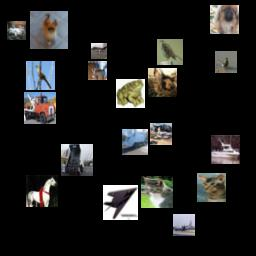airplane: (103, 185, 138, 220), (173, 214, 195, 236), (91, 43, 107, 59)
automobile: (7, 21, 26, 40)
bird: (26, 61, 55, 90), (157, 39, 183, 65), (215, 51, 237, 73)
cat: (141, 176, 173, 208), (148, 68, 177, 97), (197, 173, 226, 202), (150, 123, 172, 145), (88, 61, 107, 80)
dog: (30, 11, 68, 49), (210, 5, 239, 34)
frog: (116, 79, 145, 108)
ship: (211, 135, 240, 164)
truck: (61, 144, 93, 176), (24, 92, 56, 124), (122, 129, 148, 155)
